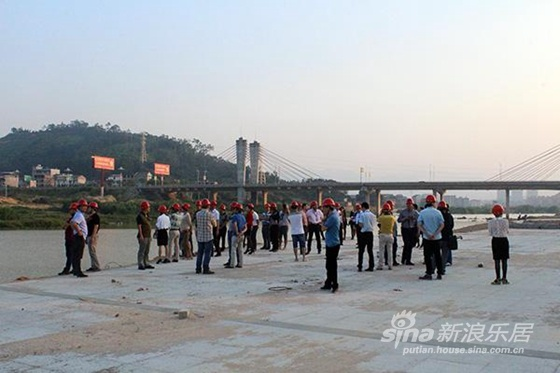none: (361, 201, 370, 212), (281, 202, 289, 211), (245, 203, 252, 212), (301, 201, 308, 210)
red: (322, 197, 334, 215), (492, 202, 503, 218), (424, 194, 437, 207), (77, 198, 88, 212), (67, 202, 78, 215), (140, 200, 151, 212), (88, 201, 98, 213), (404, 198, 414, 210), (201, 197, 210, 210), (170, 202, 180, 213), (381, 203, 391, 214), (158, 204, 167, 215), (437, 200, 446, 211), (290, 200, 298, 211), (229, 201, 238, 210), (181, 202, 189, 212), (209, 199, 217, 209), (235, 203, 243, 213), (310, 199, 318, 209), (195, 199, 202, 210), (219, 203, 226, 212), (264, 202, 271, 211), (270, 202, 277, 211), (354, 203, 361, 211), (334, 201, 340, 210)
